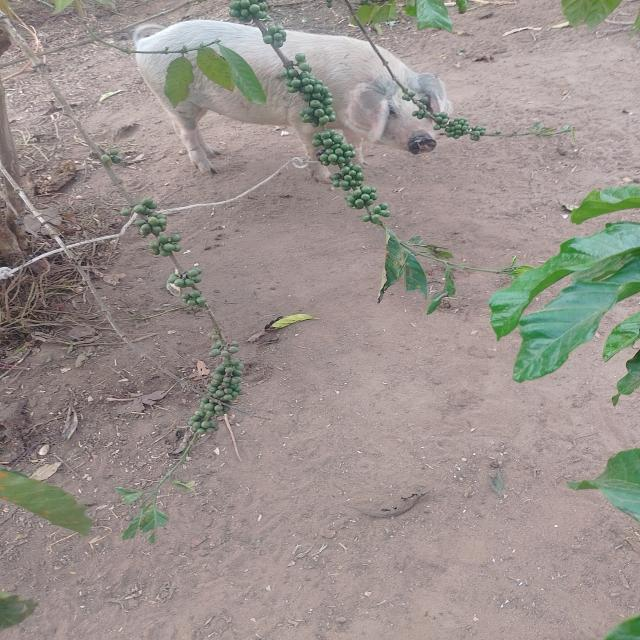pig: (90, 0, 512, 215)
